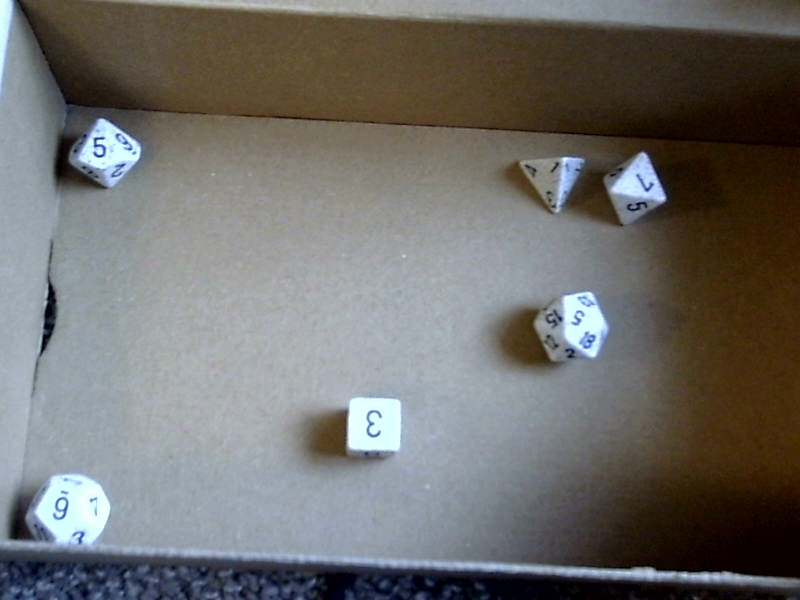d10 5: (56, 113, 144, 197)
d12 6: (17, 464, 113, 552)
d20 5: (524, 281, 616, 375)
d4 1: (511, 153, 584, 217)
d6 3: (333, 390, 413, 469)
d8 7: (600, 149, 669, 234)
